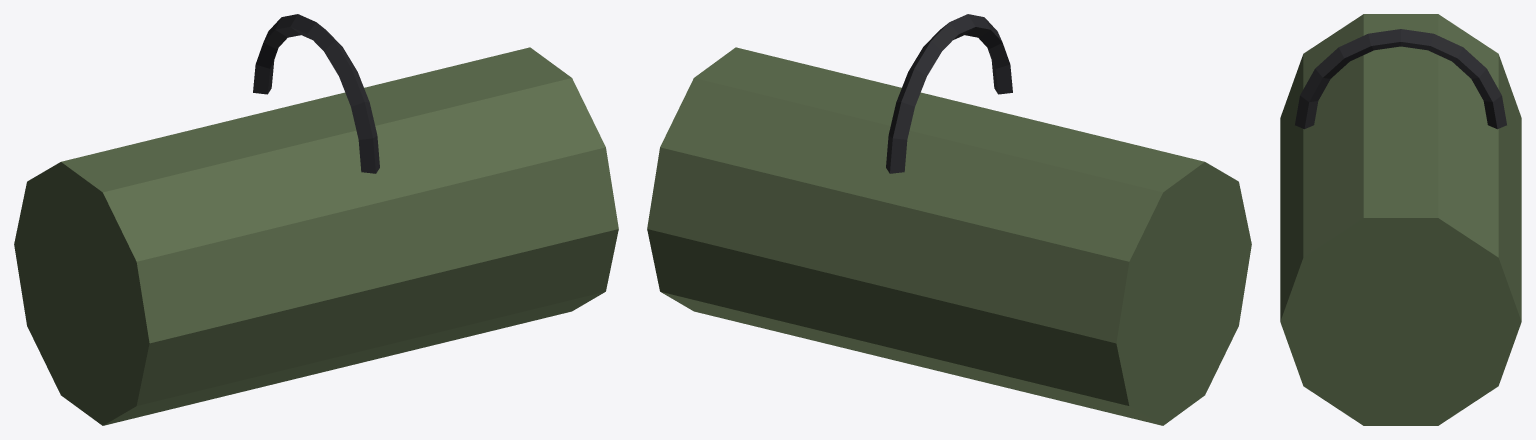
File: duffel_bag.glb
The picture shows the model from 3 angles, left to right: view 1: azimuth 30°, elevation 25°; view 2: azimuth 150°, elevation 25°; view 3: azimuth 270°, elevation 25°; orthographic projection. The views are drawn at different scales.
Parts seen in each view (by area): view 1: bag_bag_cloth, strap_bag_strap; view 2: bag_bag_cloth, strap_bag_strap; view 3: bag_bag_cloth, strap_bag_strap.
Part boxes in pixels (x1=…): bag_bag_cloth: x1=14, y1=47, x2=618, y2=425; strap_bag_strap: x1=253, y1=14, x2=379, y2=173; bag_bag_cloth: x1=647, y1=47, x2=1251, y2=425; strap_bag_strap: x1=886, y1=14, x2=1012, y2=173; bag_bag_cloth: x1=1280, y1=14, x2=1521, y2=425; strap_bag_strap: x1=1295, y1=29, x2=1506, y2=129.
Size of the model in its own units: 0.6 by 0.4047 by 0.3.
